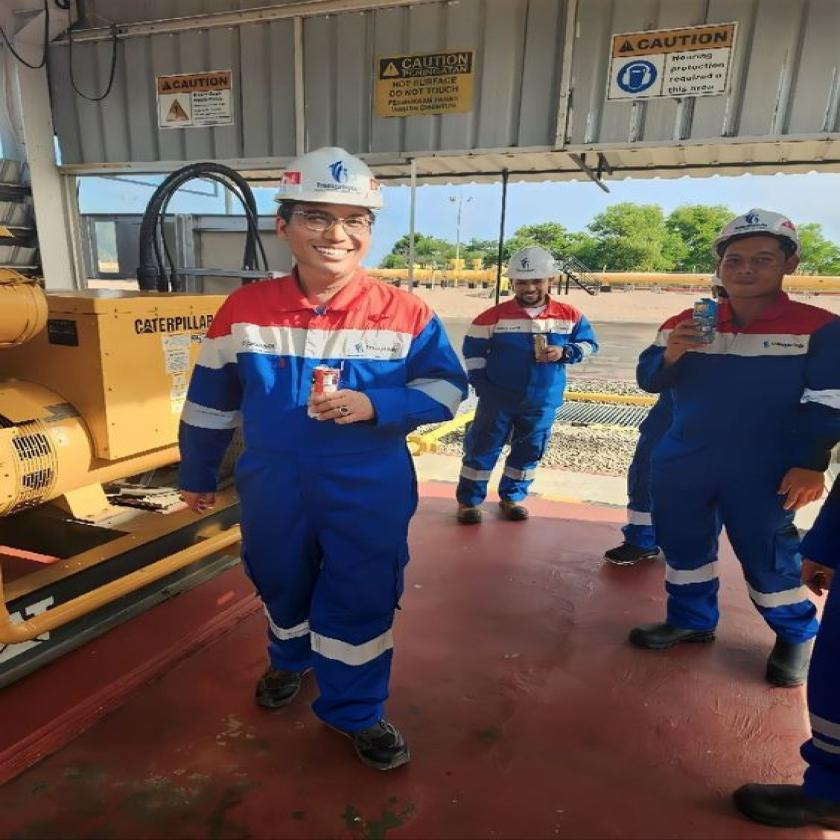Con_casco: (264, 136, 418, 285), (683, 202, 818, 308), (494, 242, 571, 306)
